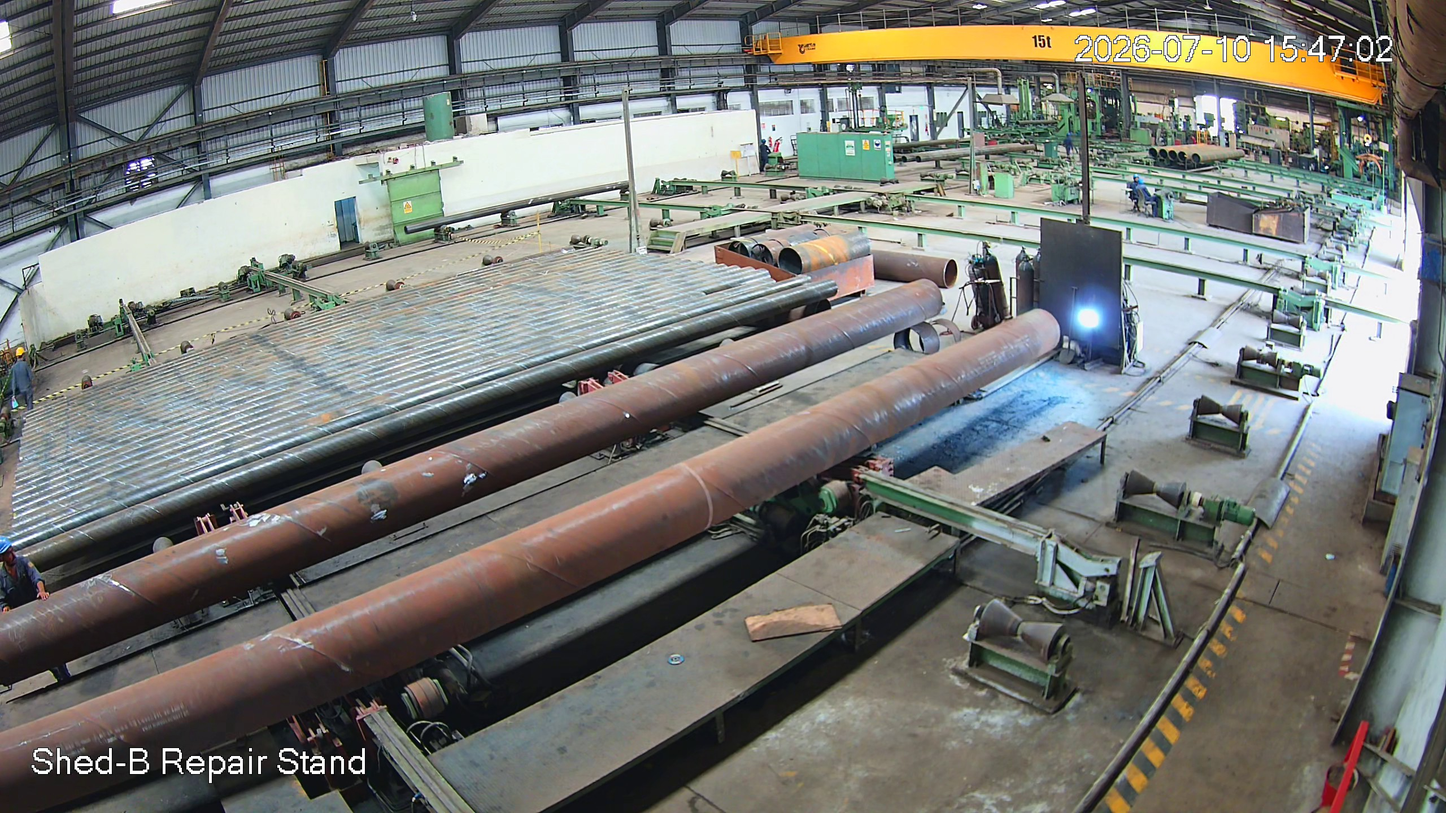Helmet: (0, 524, 23, 577)
Person: (0, 528, 40, 662)
